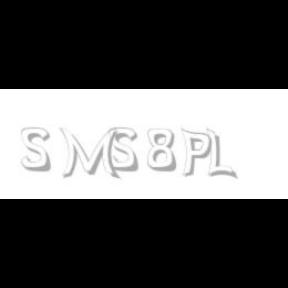8: (148, 128, 176, 172)
L: (206, 128, 234, 180)
M: (60, 128, 119, 180)
P: (180, 128, 212, 178)
S: (21, 128, 52, 172), (109, 128, 140, 172)
